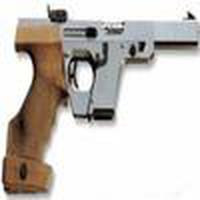gun: (3, 17, 198, 197)
